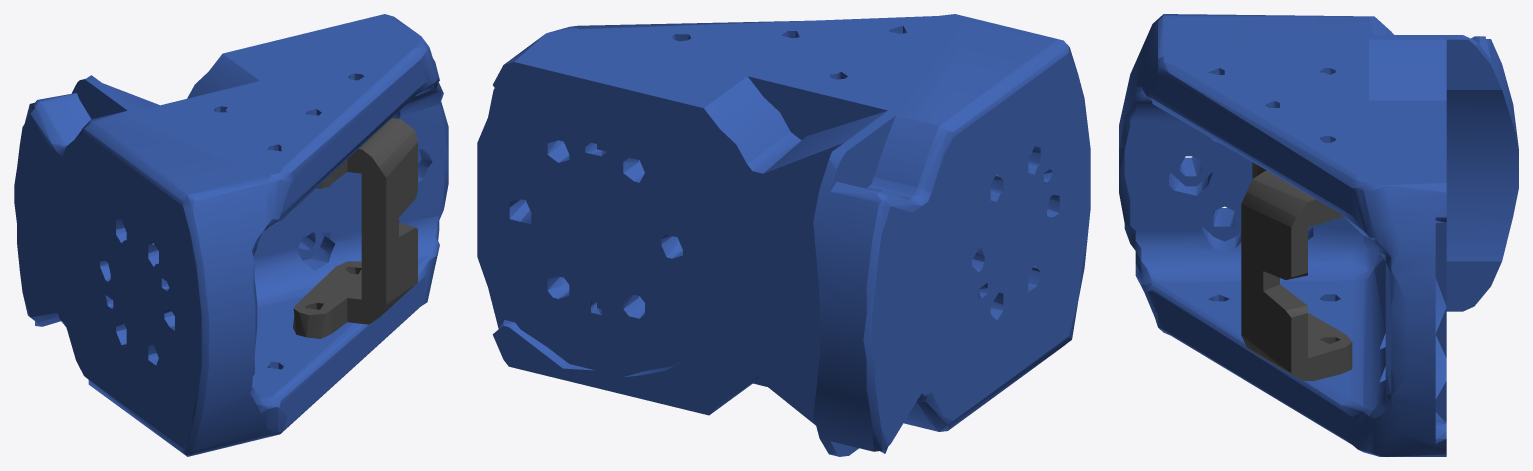
Rendered from right_shoulder_roll.obj.
3 renders of one model, left to right at view 1: azimuth 30°, elevation 25°; view 2: azimuth 150°, elevation 25°; view 3: azimuth 270°, elevation 25°, orthographic. The views are drawn at different scales.
Parts seen in each view (by area): view 1: N16_23_P02_01_Link_Shoulder_End, N16_23_P02_03_Shoulder_Cable_Routing; view 2: N16_23_P02_01_Link_Shoulder_End; view 3: N16_23_P02_01_Link_Shoulder_End, N16_23_P02_03_Shoulder_Cable_Routing.
Part boxes in pixels (x1,y1,x2,y2): N16_23_P02_01_Link_Shoulder_End: (14, 14, 448, 456); N16_23_P02_03_Shoulder_Cable_Routing: (293, 118, 417, 338); N16_23_P02_01_Link_Shoulder_End: (477, 14, 1090, 456); N16_23_P02_01_Link_Shoulder_End: (1119, 14, 1518, 456); N16_23_P02_03_Shoulder_Cable_Routing: (1241, 162, 1352, 381).
Size of the model in its own units: 0.081 by 0.054 by 0.072.
